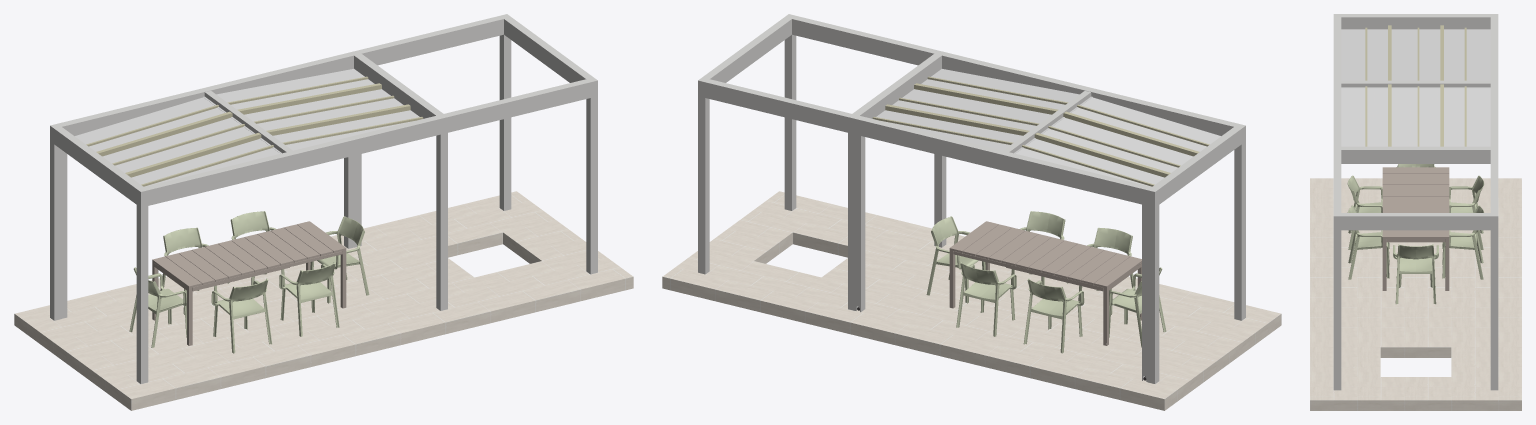
Rendered from hyg38_matwhite.fbx.
3 views of the same model, side by side, from view 1: azimuth 30°, elevation 25°; view 2: azimuth 150°, elevation 25°; view 3: azimuth 270°, elevation 25° (orthographic). The views are drawn at different scales.
Parts seen in each view (by area): view 1: hyg38_matwhite; view 2: hyg38_matwhite; view 3: hyg38_matwhite.
Part boxes in pixels (x1,y1,x2,y2): hyg38_matwhite: (14,14,633,410); hyg38_matwhite: (662,14,1281,410); hyg38_matwhite: (1310,14,1521,410).
Bounding box in the file's own units: 670 × 260 × 270.
9 materials, 6 textured.
